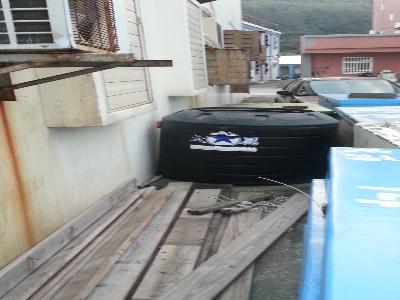bucket: (157, 106, 342, 187)
